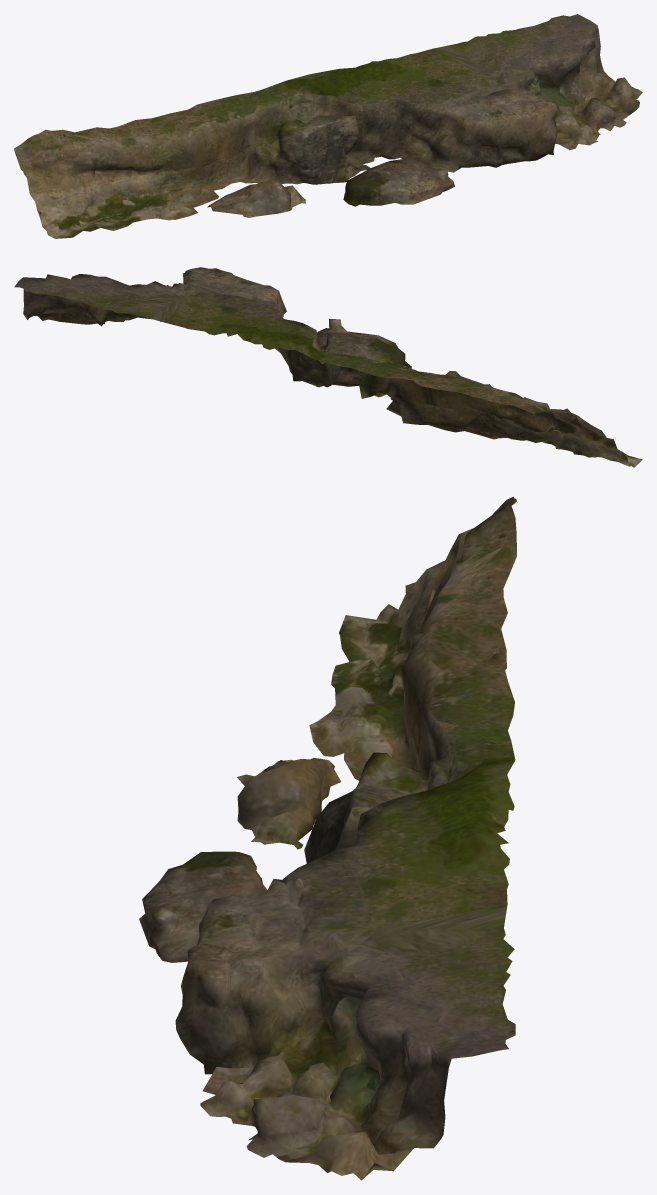
3 renders of one model, top to bottom at view 1: azimuth 30°, elevation 25°; view 2: azimuth 150°, elevation 25°; view 3: azimuth 270°, elevation 25°, orthographic. The views are drawn at different scales.
Visible parts, largest first — view 1: coastal_cliff_04; view 2: coastal_cliff_04; view 3: coastal_cliff_04.
Part boxes in pixels (x1,y1,x2,y2): coastal_cliff_04: (14,14,642,238); coastal_cliff_04: (14,267,642,467); coastal_cliff_04: (139,496,517,1180).
Bounding box in the file's own units: 86.72 × 11.01 × 24.23.
Materials: 1 (1 with a texture image).
